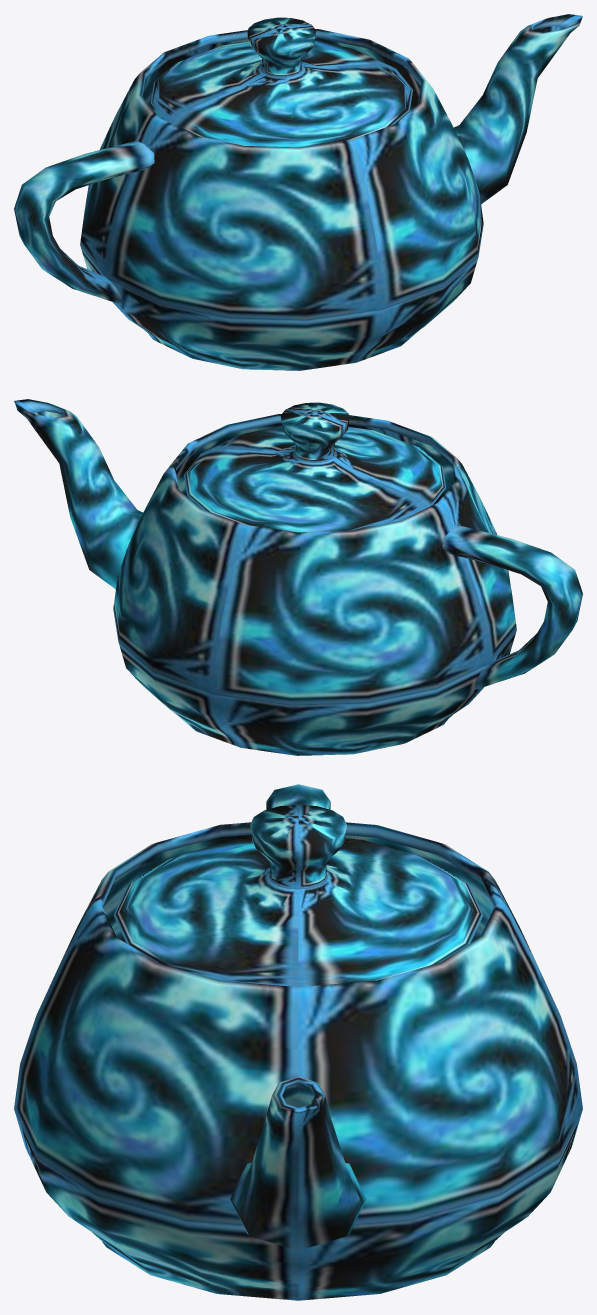
File: taeput.FBX
The picture shows the model from 3 angles, top to bottom: view 1: azimuth 30°, elevation 25°; view 2: azimuth 150°, elevation 25°; view 3: azimuth 270°, elevation 25°; orthographic projection. The views are drawn at different scales.
Visible parts, largest first — view 1: Teapot001; view 2: Teapot001; view 3: Teapot001.
Boxes of the visible parts, x1,y1,x2,y2 form: Teapot001: (14, 14, 582, 370); Teapot001: (14, 399, 582, 755); Teapot001: (14, 784, 582, 1300).
Size of the model in its own units: 16.07 by 7.88 by 10.
Materials: 1 (1 with a texture image).
